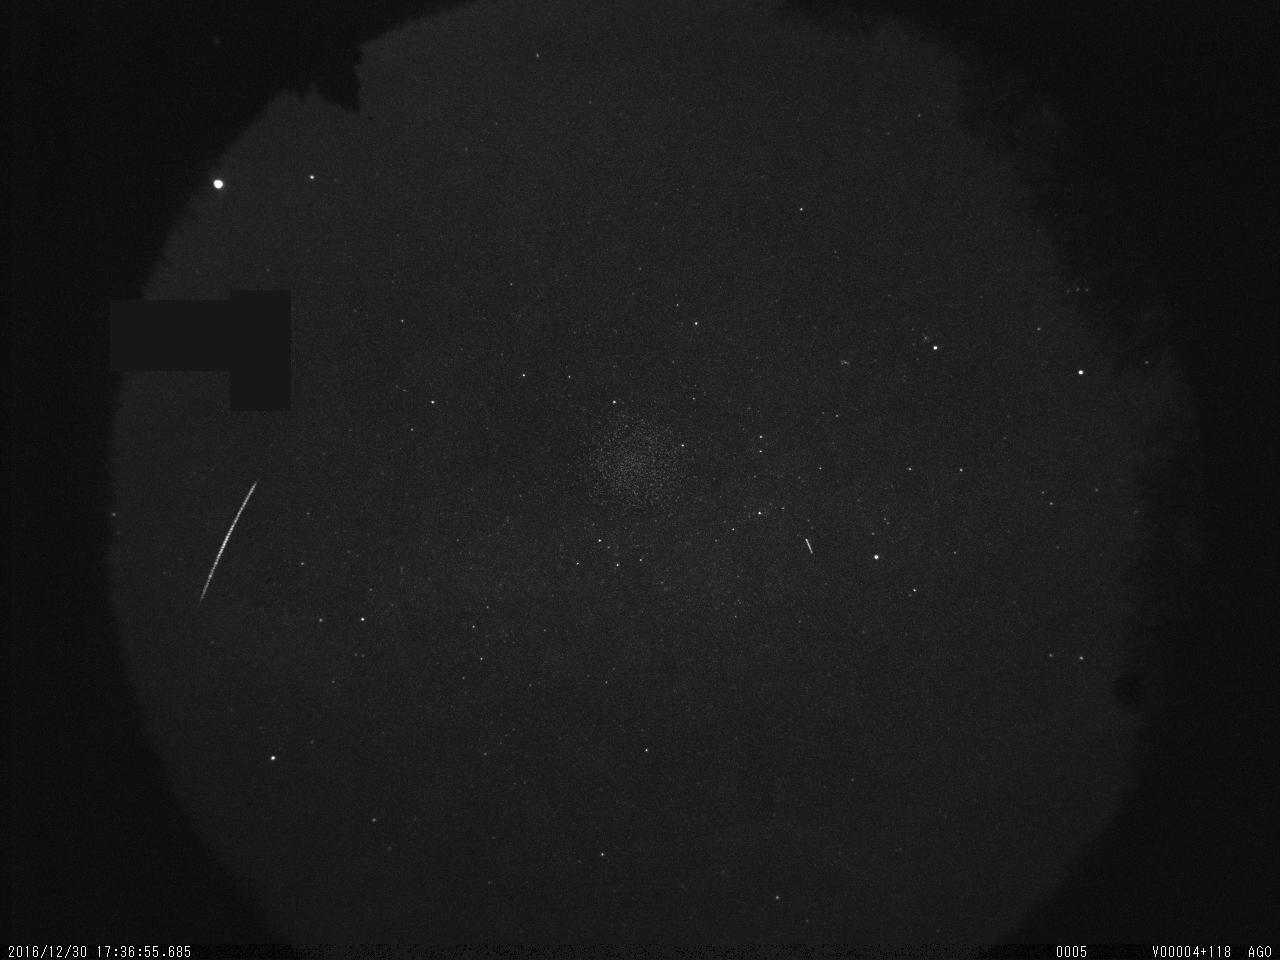meteor: (178, 460, 282, 596)
